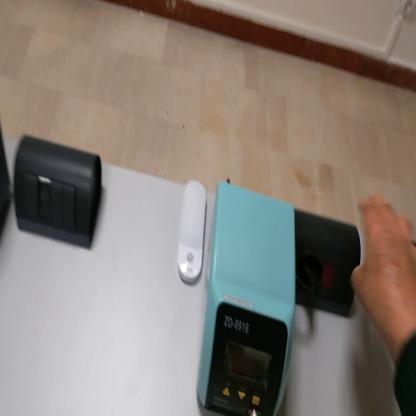hand: (351, 195, 416, 342)
socket: (294, 204, 358, 314)
welder station: (198, 180, 302, 413)
